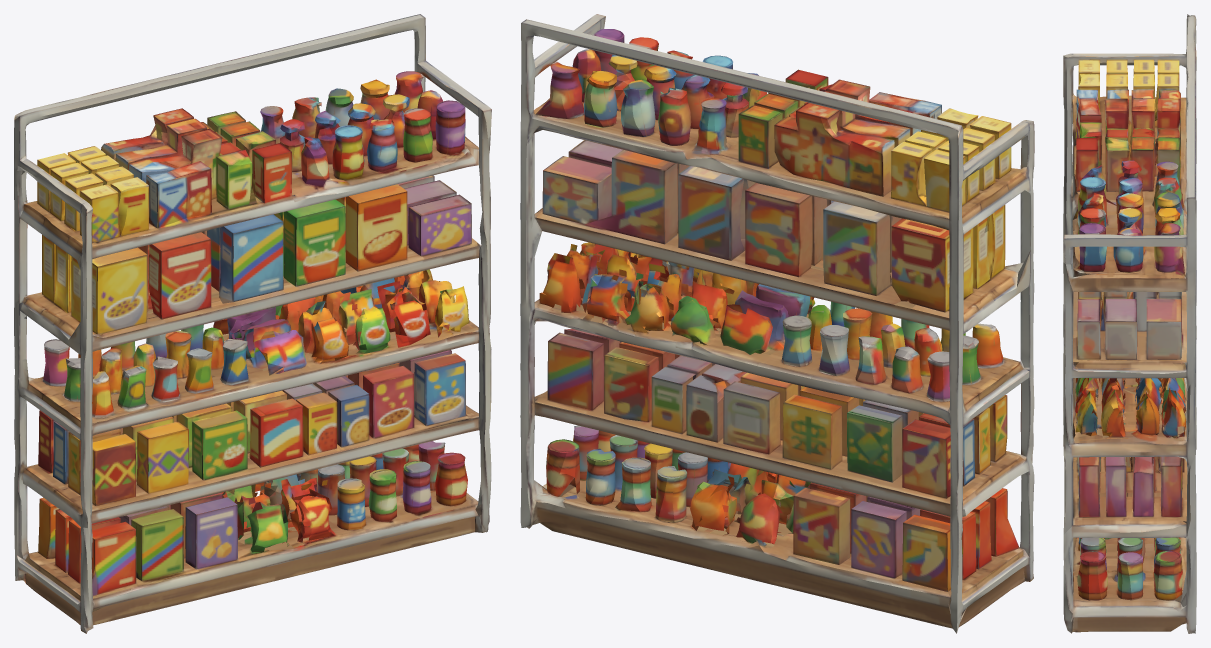
The model's file is SM_StockedShopShelf.fbx.
3 views of the same model, side by side, from view 1: azimuth 30°, elevation 25°; view 2: azimuth 150°, elevation 25°; view 3: azimuth 270°, elevation 25° (orthographic). The views are drawn at different scales.
Parts seen in each view (by area): view 1: SM_StockedShopShelf_LOD0; view 2: SM_StockedShopShelf_LOD0; view 3: SM_StockedShopShelf_LOD0.
Boxes of the visible parts, x1=… form: SM_StockedShopShelf_LOD0: x1=14, y1=14, x2=491, y2=633; SM_StockedShopShelf_LOD0: x1=520, y1=14, x2=1034, y2=633; SM_StockedShopShelf_LOD0: x1=1063, y1=14, x2=1196, y2=633.
Size of what is drawn, in the model's own units: 182 by 55.33 by 200.
